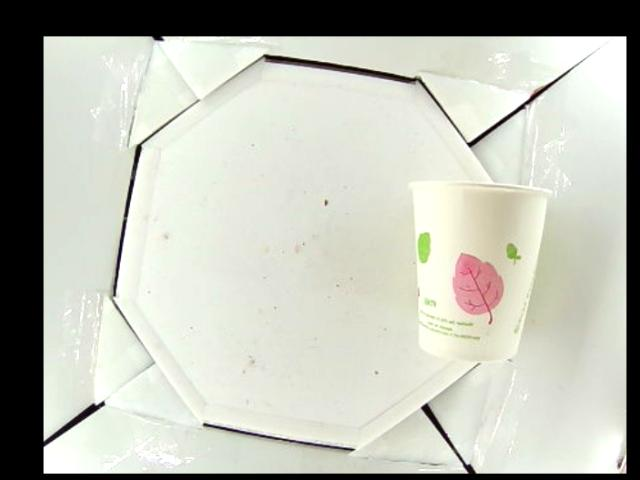Cup: (410, 178, 549, 363)
